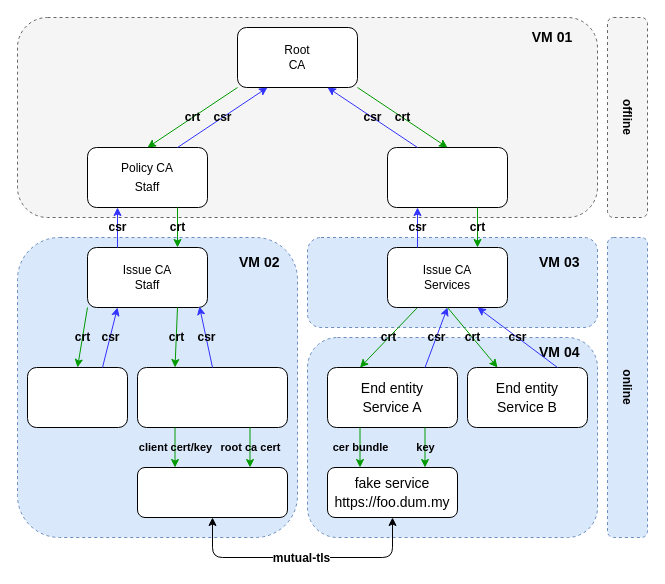
Image size: 665x584. Some labels were removed from this diagram. Each missing label, with the centre of its shape:
End entity Staff A: point 77,397
End entity Staff B: point 212,397
fake clent: point 212,492
Policy CA Services: point 447,177
